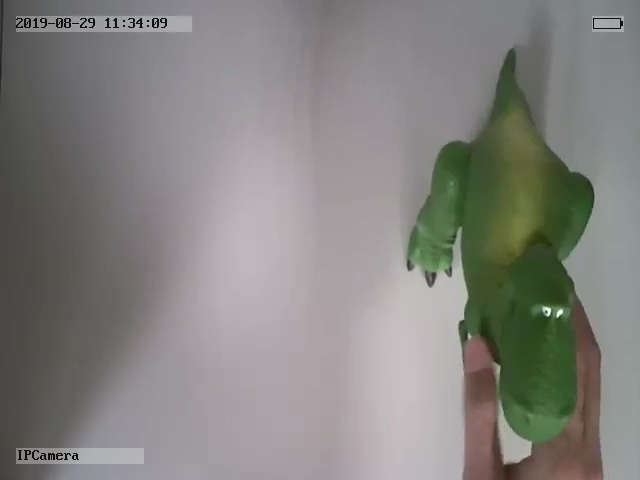rex: (404, 47, 595, 442)
